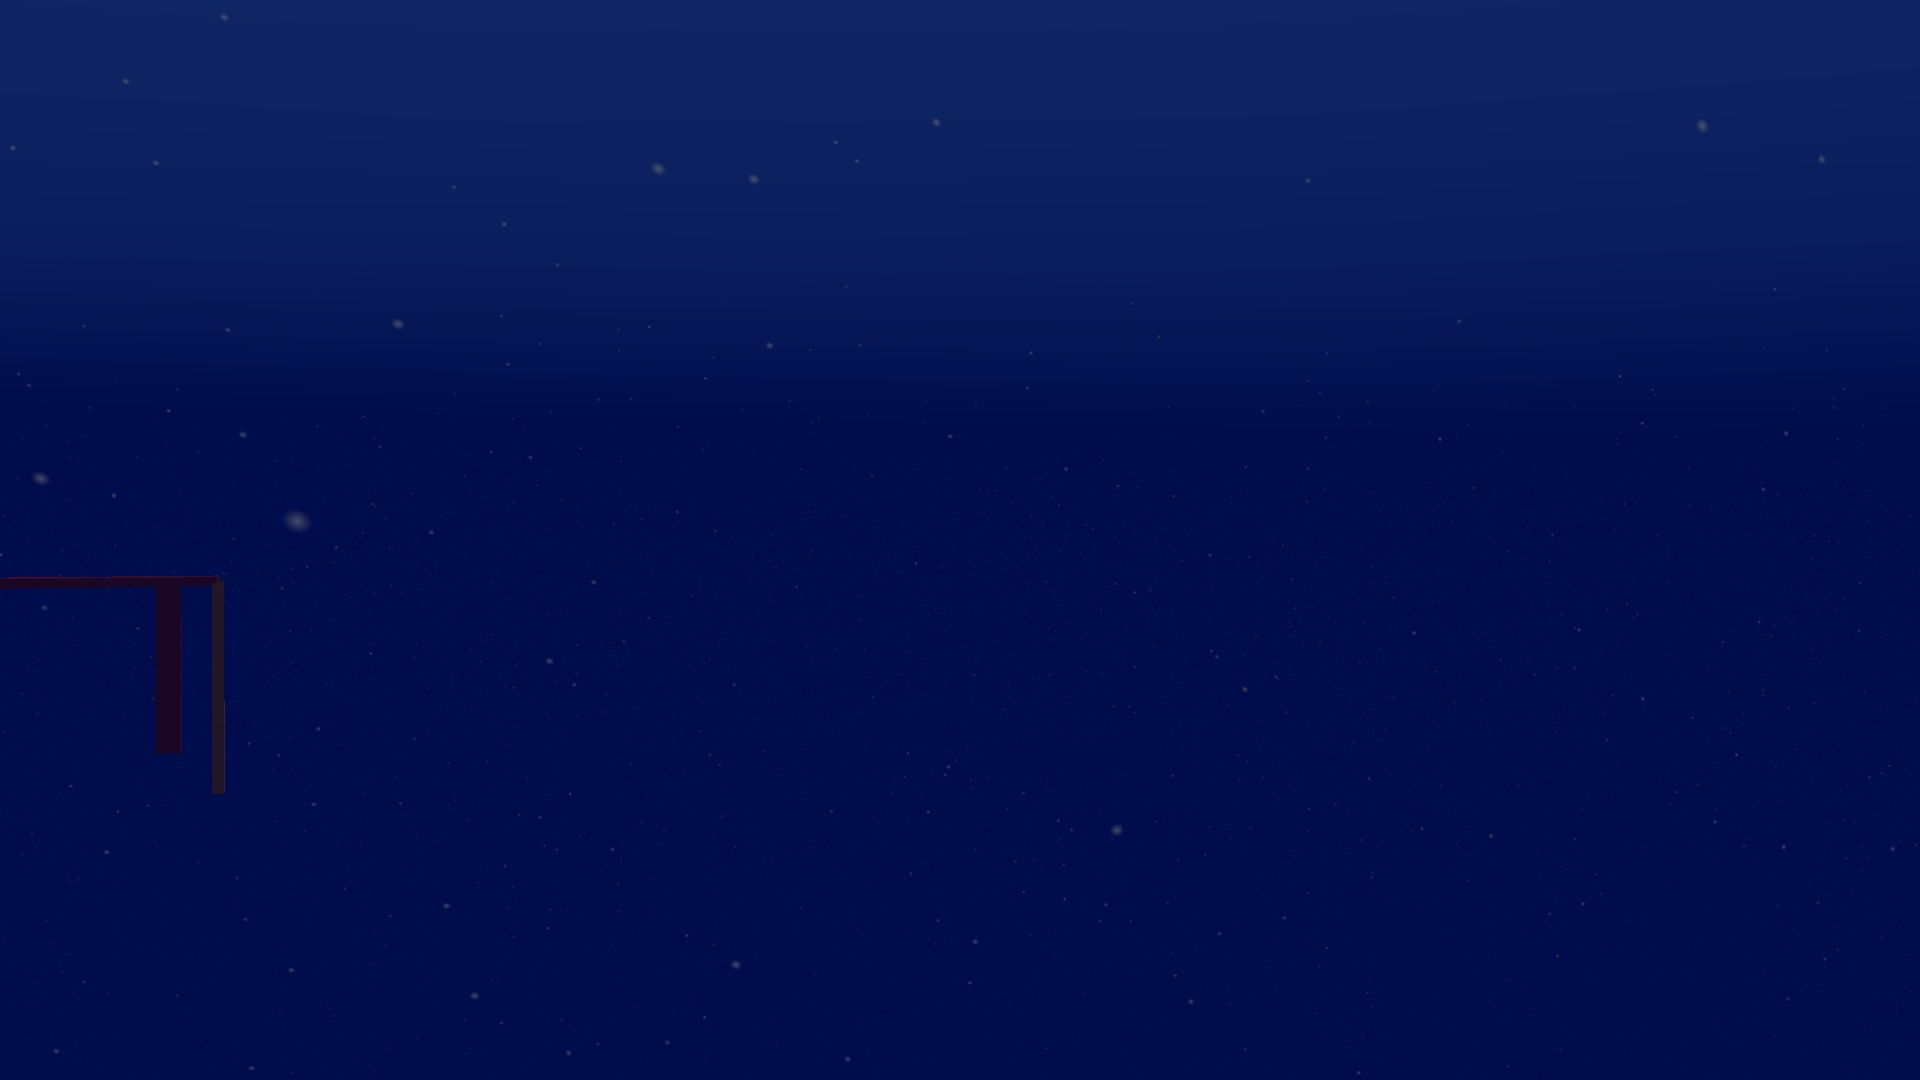Gate: (1, 564, 237, 807)
